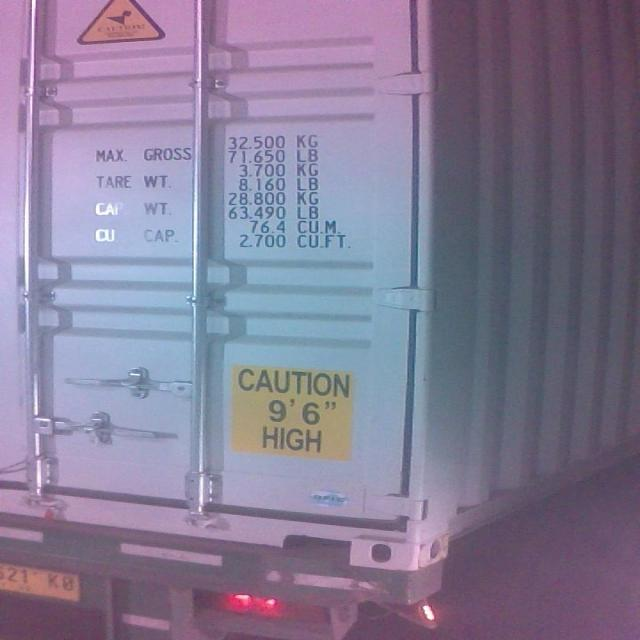seal: (38, 494, 67, 532), (78, 416, 105, 447)
